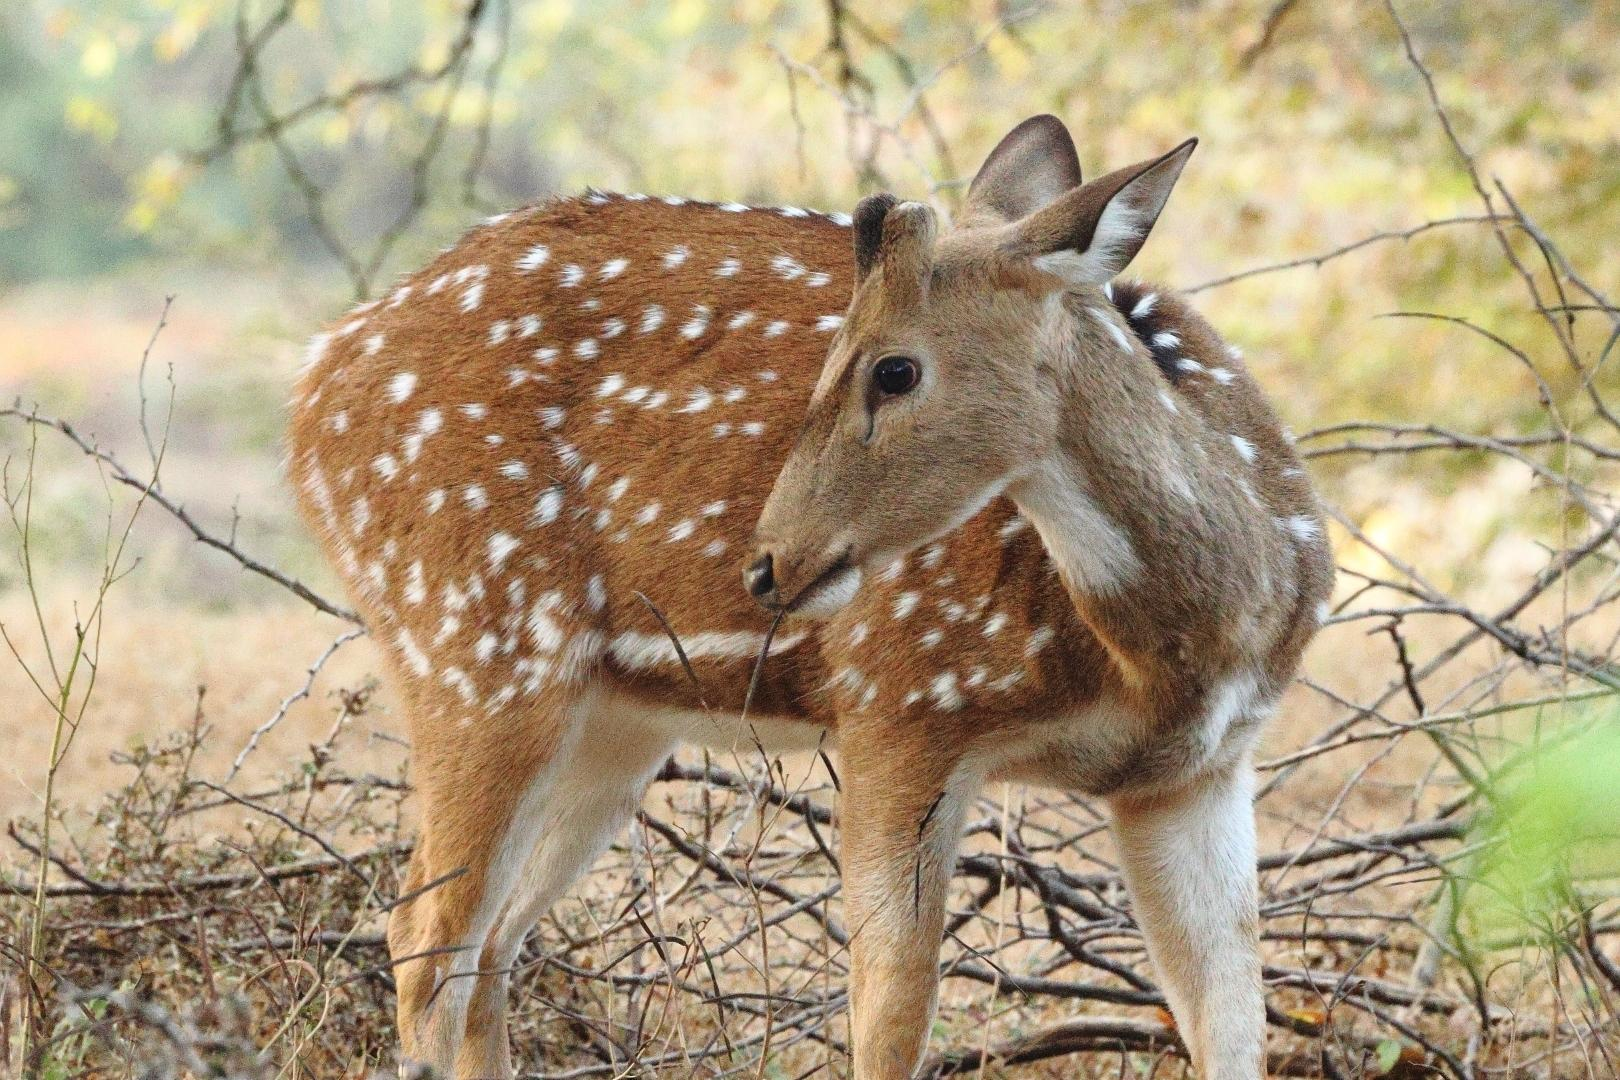Deer: (287, 116, 1333, 1079)
